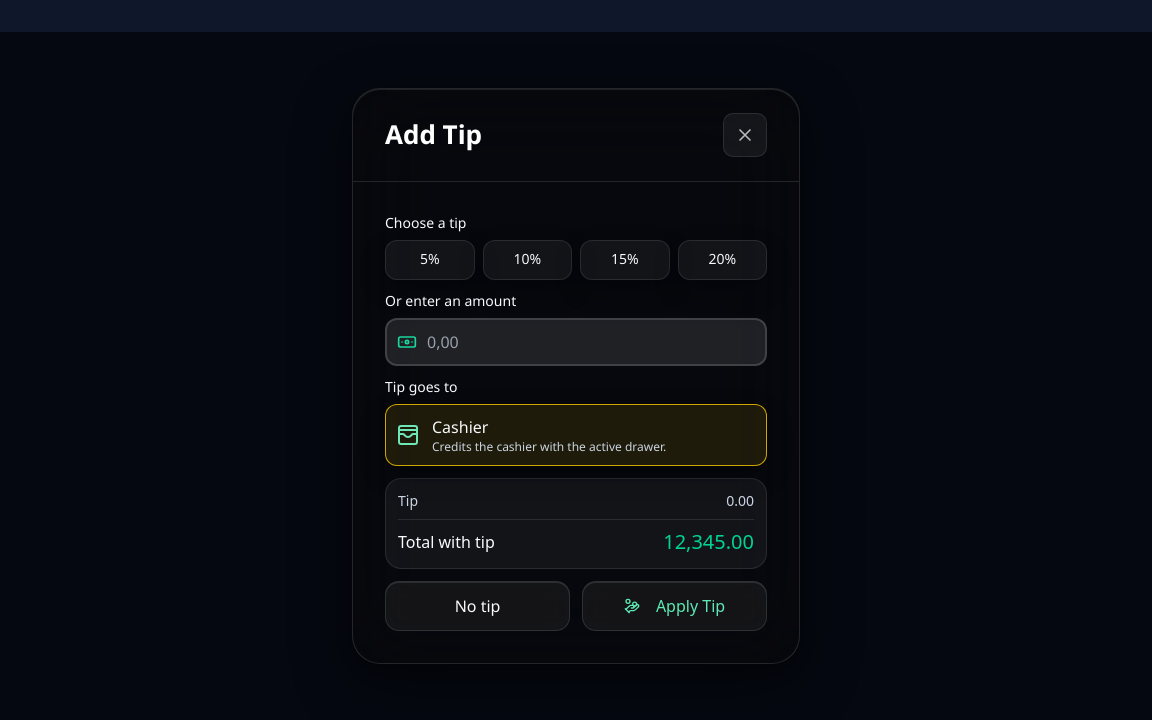
it: TipModal amount › prefills a percentage tip in the grouped money format
The image size is (1152, 720).
Step 1. Click the button "10%" → (527, 260), box [482,240,572,280]
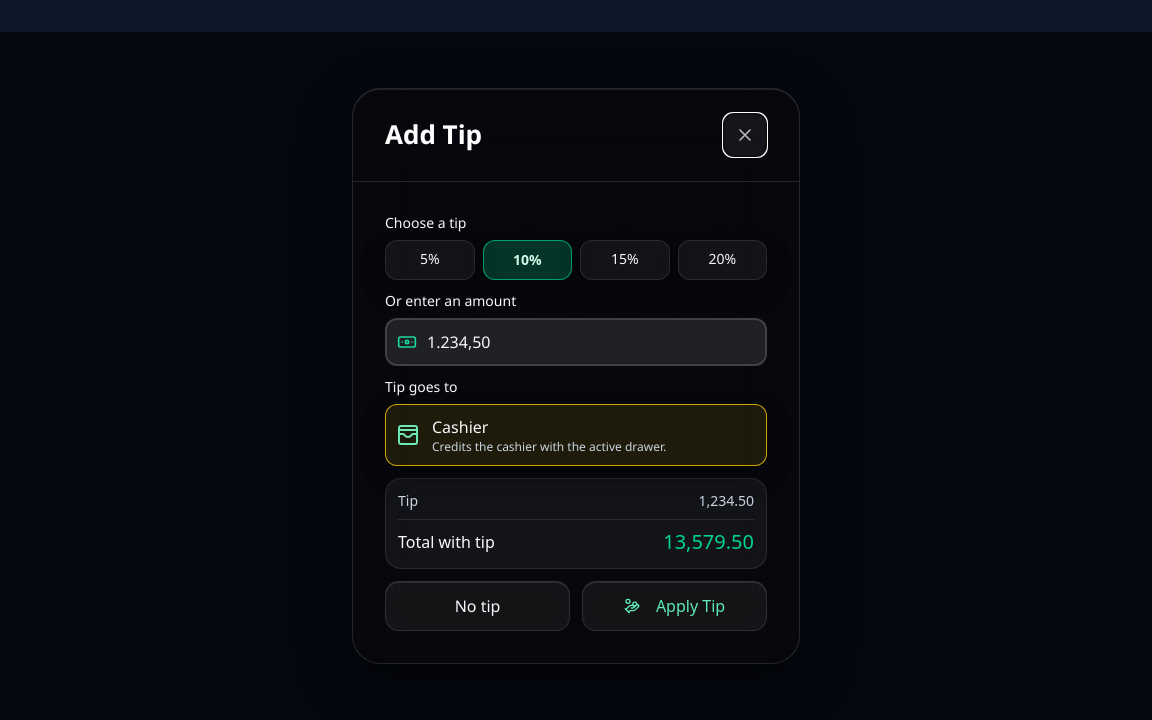
Now the field named "Or enter an amount" holds "1.234,50", box [385,318,767,366]
